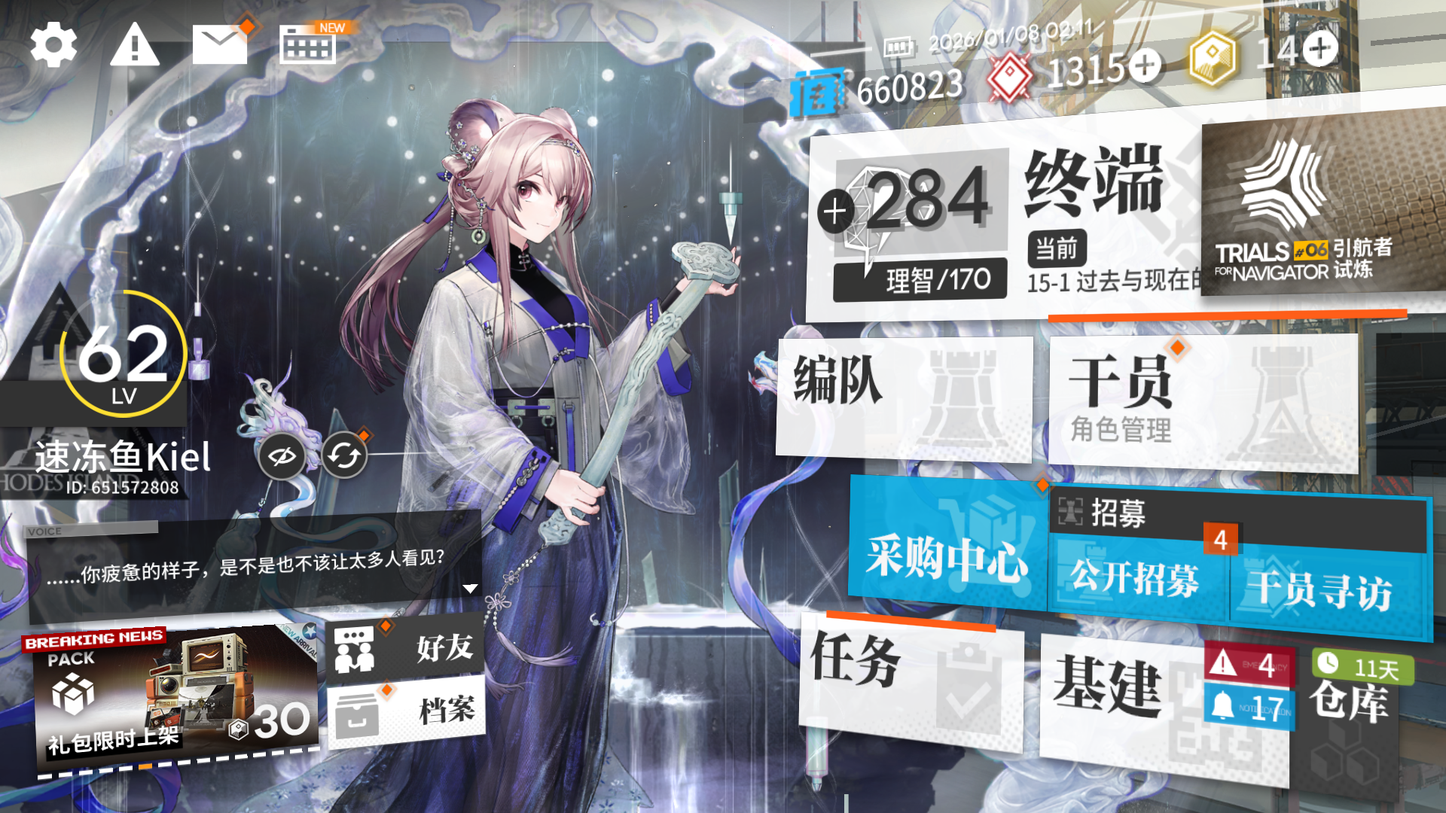home_button: (1020, 135, 1165, 239)
infrastructure_button: (1030, 632, 1247, 767)
